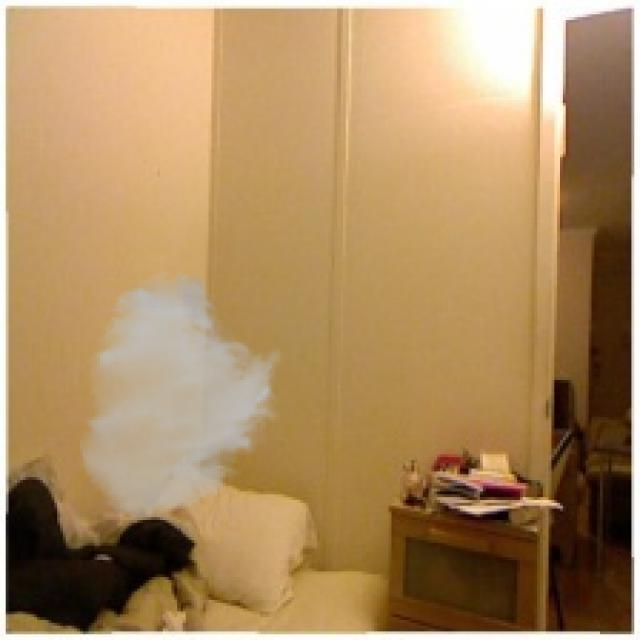Smoke: (77, 268, 286, 523)
